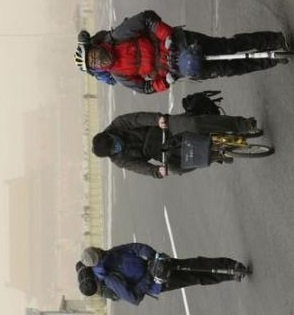person: (74, 11, 290, 93), (93, 113, 264, 177), (76, 245, 252, 304)
